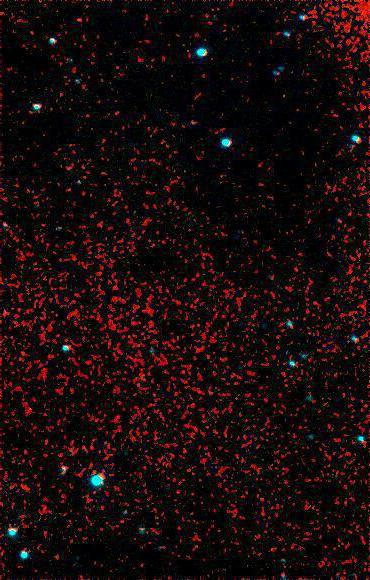star: (67, 3, 97, 33)
